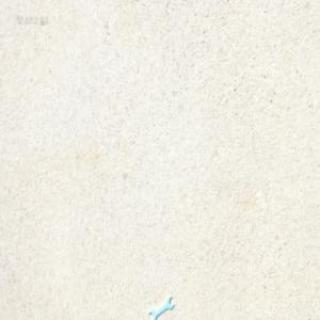Wrenchtrack_idkeyframe: (148, 292, 174, 317)
